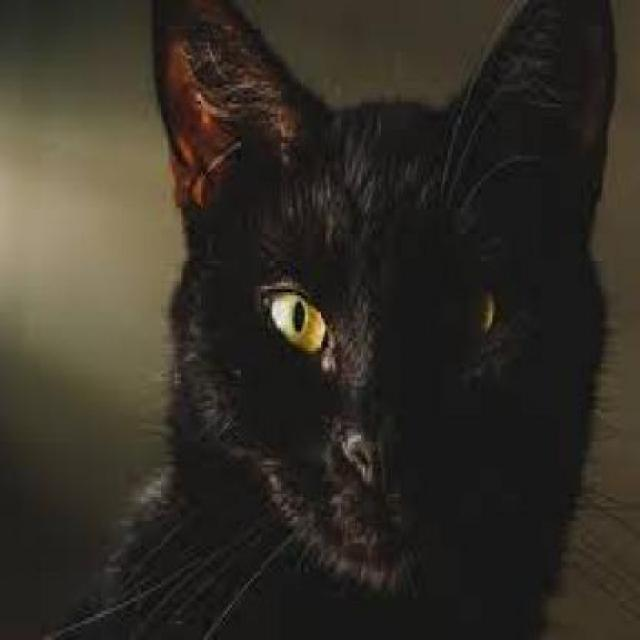animals: (87, 3, 630, 637)
